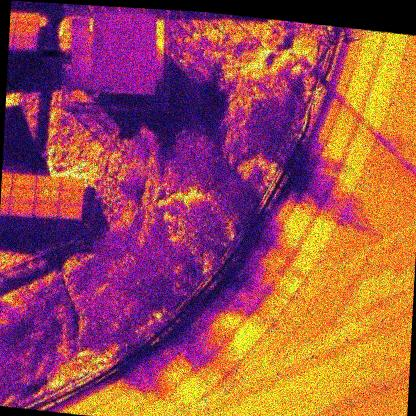Hotspot: (33, 187, 59, 203)
Normal: (32, 200, 58, 218), (10, 186, 34, 204), (57, 202, 82, 219), (58, 189, 84, 205), (12, 34, 38, 50), (15, 11, 40, 26), (10, 174, 36, 188), (60, 176, 84, 191), (9, 202, 34, 216), (35, 176, 60, 190), (13, 23, 38, 37)
